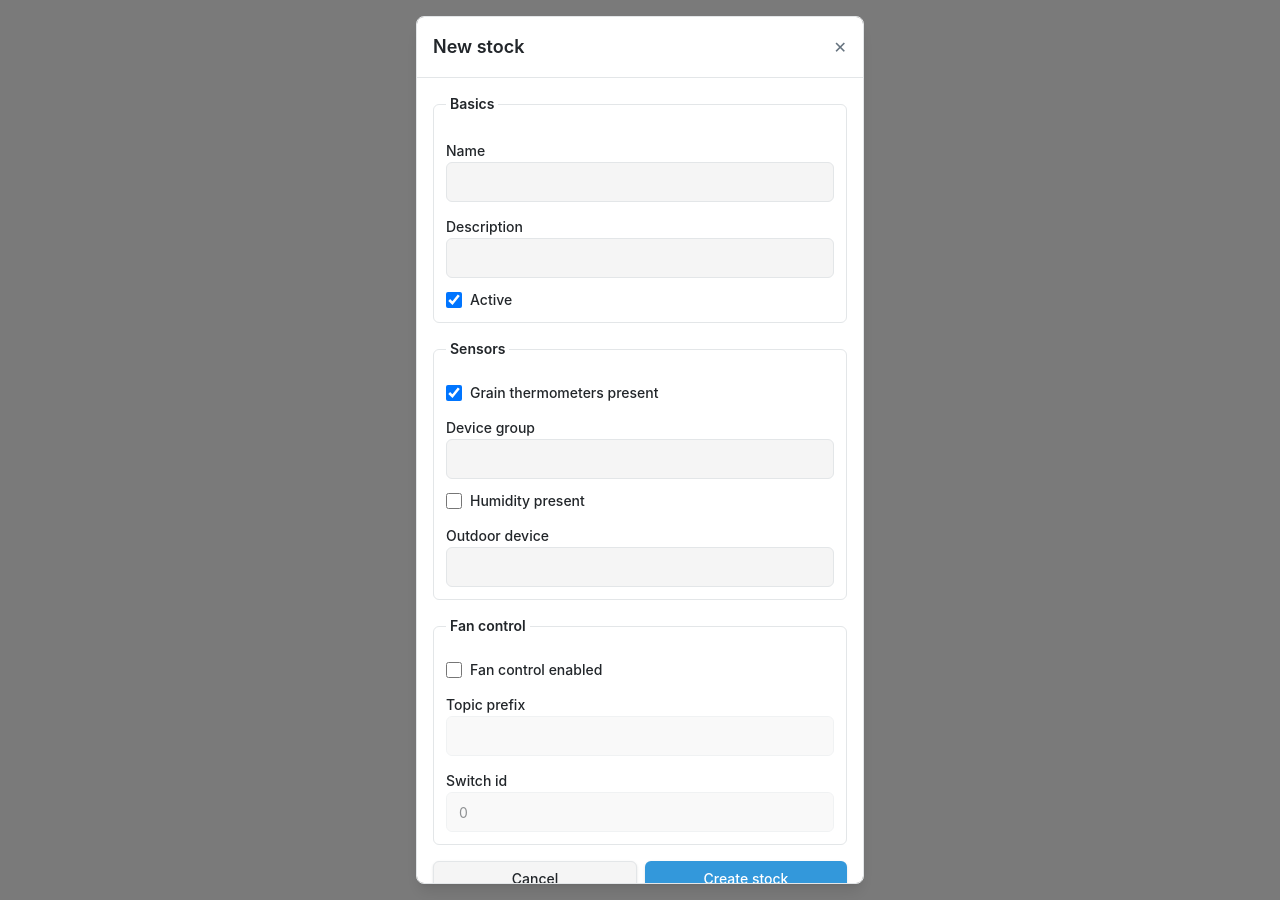
Scenario: StockFormDialog validation › rejects grain thermometers without a device group
The width and height of the screenshot is (1280, 900).
In the field labelled "Name": coordinates (640, 182) [446, 162, 834, 202], type "Halle Süd"
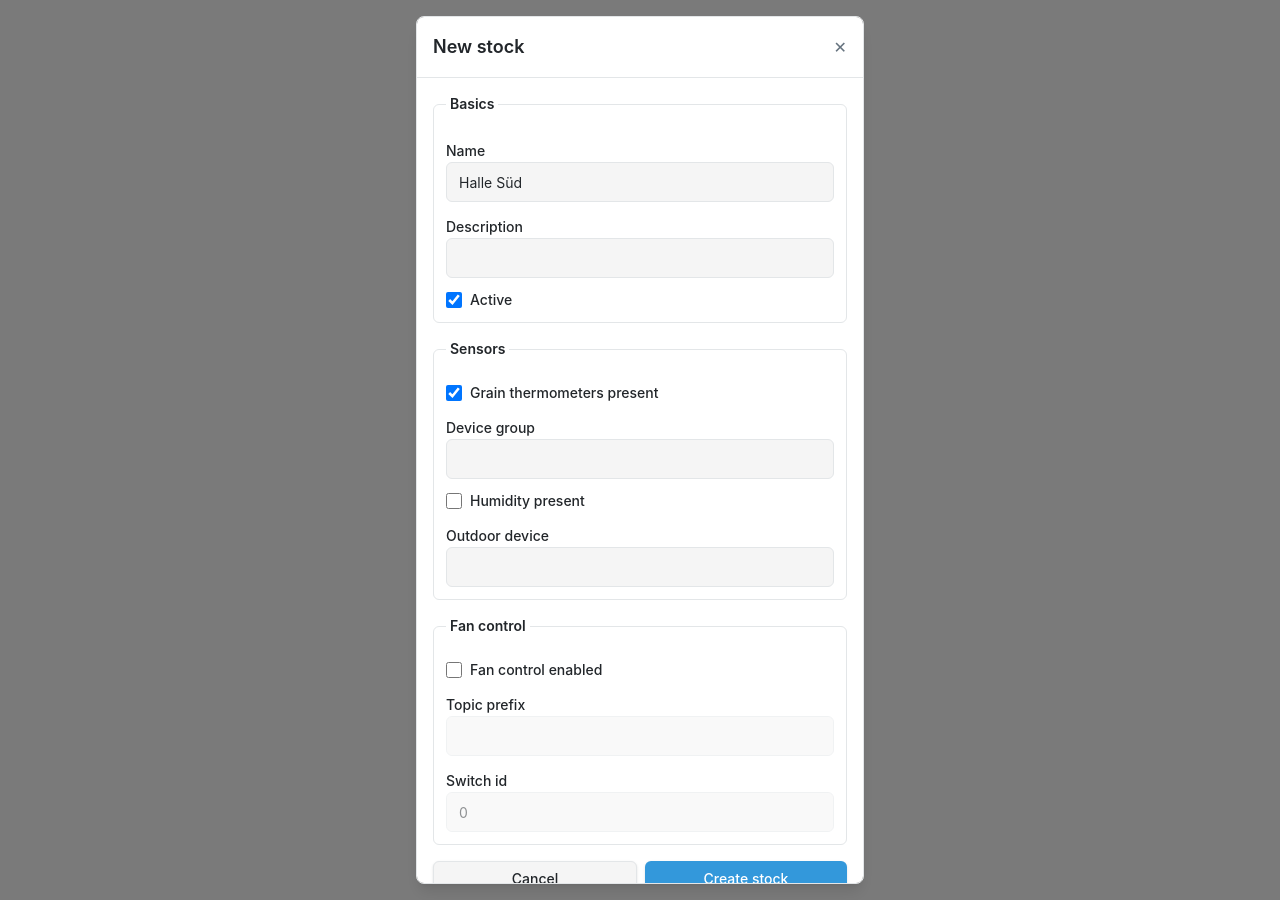
Click the button "Create stock": coordinates (746, 879) [645, 861, 847, 897]
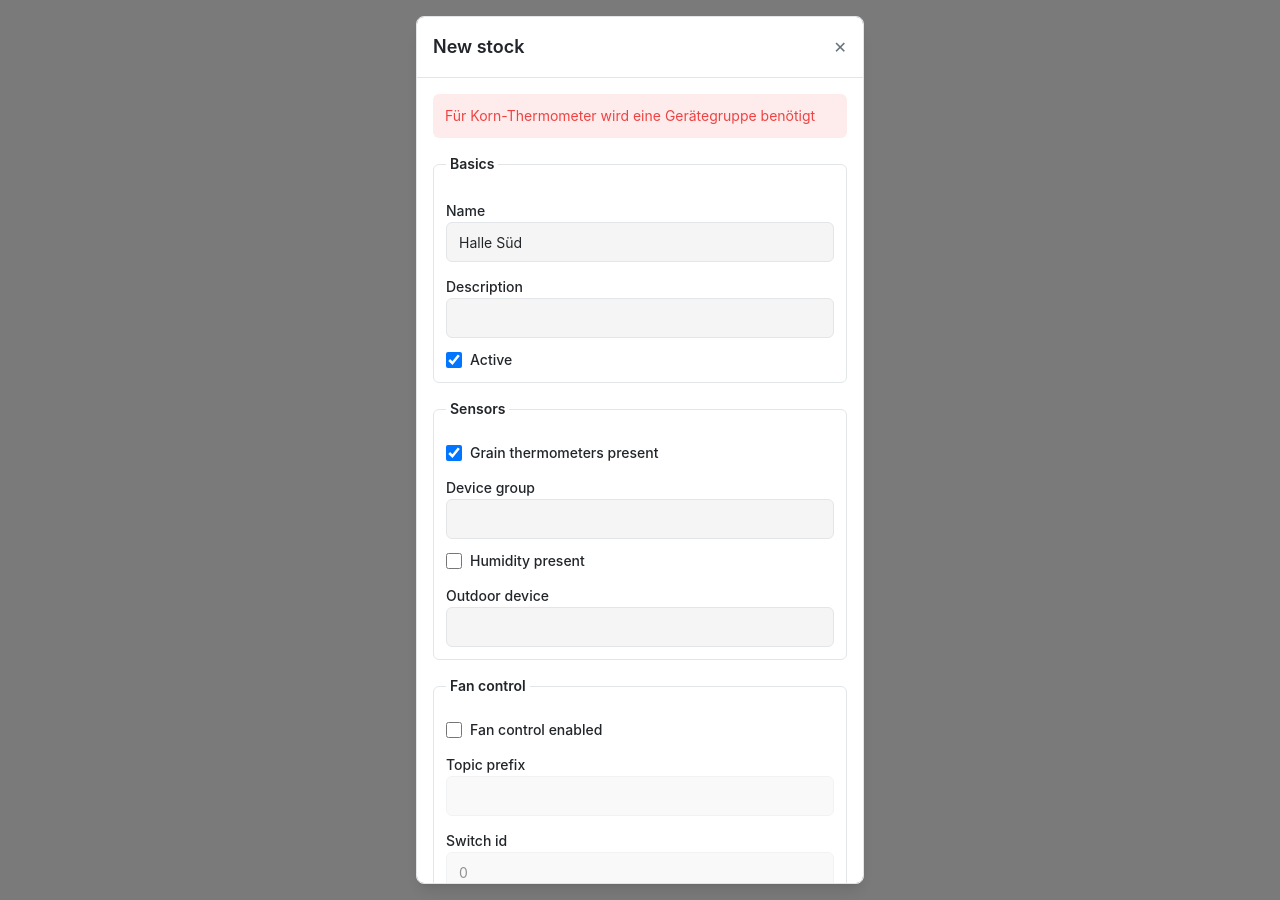
expect the text "Für Korn-Thermometer wird eine Gerätegruppe benötigt" is shown: met, box [433, 94, 847, 138]
